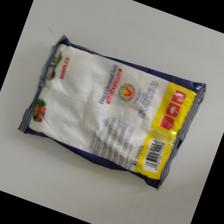Salt: (15, 36, 212, 191)
